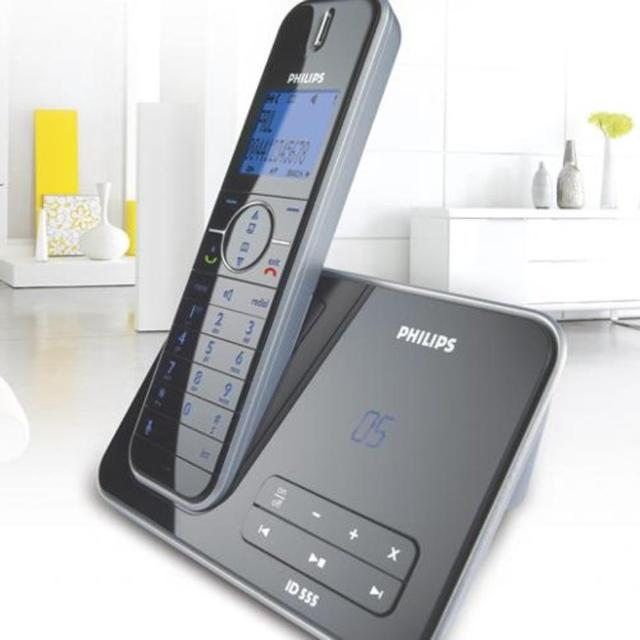Telephone-Set: (118, 8, 536, 624)
